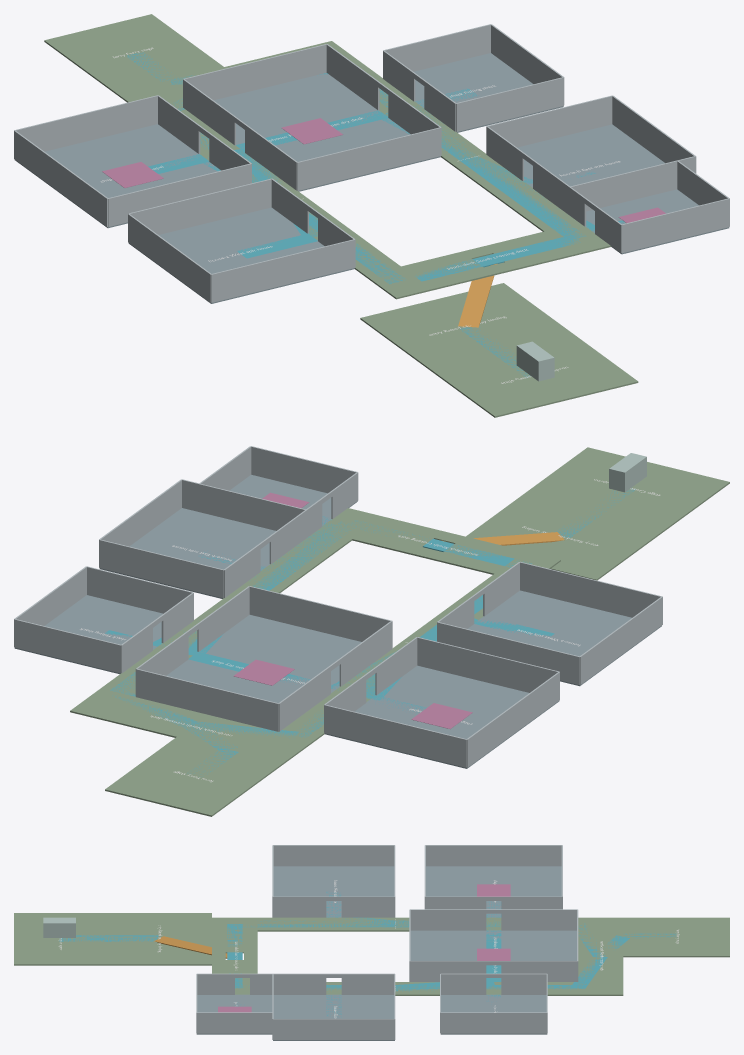
The model's file is rough-shell.glb.
The picture shows the model from 3 angles, top to bottom: view 1: azimuth 30°, elevation 25°; view 2: azimuth 150°, elevation 25°; view 3: azimuth 270°, elevation 25°; orthographic projection. The views are drawn at different scales.
Parts seen in each view (by area): view 1: Floor entry, Floor warehouse, Floor stage, Floor ferry, Floor chapel, Floor house-a, Floor service, Floor house-b, Wall house-a S, Wall warehouse S, Wall house-a N, Wall chapel N (+43 smaller); view 2: Floor entry, Floor warehouse, Floor ferry, Floor stage, Floor north-deck, Floor chapel, Floor house-a, Floor house-b, Floor service, Wall warehouse N, Wall chapel N, Wall warehouse S (+41 smaller); view 3: Floor entry, Floor warehouse, Floor ferry, Floor stage, Floor house-a, Floor chapel, Floor north-deck, Floor house-b, Wall chapel W, Floor main, Wall house-a W, Wall house-b E (+31 smaller).
Part boxes in pixels (left/top/right/bottom): Floor entry: left=360, top=283, right=575, bottom=371; Floor warehouse: left=214, top=73, right=440, bottom=191; Floor stage: left=432, top=336, right=638, bottom=417; Floor ferry: left=44, top=14, right=223, bottom=94; Floor chapel: left=14, top=124, right=219, bottom=228; Floor house-a: left=128, top=207, right=354, bottom=303; Floor service: left=357, top=63, right=611, bottom=255; Floor house-b: left=517, top=124, right=664, bottom=187; Wall house-a S: left=211, top=239, right=355, bottom=302; Wall warehouse S: left=297, top=127, right=441, bottom=190; Wall house-a N: left=128, top=178, right=271, bottom=234; Wall chapel N: left=14, top=95, right=157, bottom=151; Floor entry: left=466, top=492, right=668, bottom=580; Floor warehouse: left=166, top=615, right=361, bottom=702; Floor ferry: left=105, top=737, right=283, bottom=816; Floor stage: left=526, top=447, right=729, bottom=528; Floor north-deck: left=70, top=688, right=314, bottom=763; Floor chapel: left=324, top=665, right=559, bottom=768; Floor house-a: left=468, top=590, right=661, bottom=686; Floor house-b: left=99, top=508, right=275, bottom=598; Floor service: left=101, top=508, right=382, bottom=695; Wall warehouse N: left=136, top=669, right=278, bottom=731; Wall chapel N: left=324, top=705, right=466, bottom=767; Wall warehouse S: left=249, top=586, right=391, bottom=641; Floor entry: left=105, top=913, right=211, bottom=965; Floor warehouse: left=410, top=930, right=576, bottom=960; Floor ferry: left=623, top=917, right=729, bottom=957; Floor stage: left=14, top=913, right=105, bottom=965; Floor house-a: left=273, top=866, right=394, bottom=917; Floor chapel: left=426, top=866, right=561, bottom=917; Floor north-deck: left=577, top=917, right=623, bottom=995; Floor house-b: left=273, top=994, right=394, bottom=1040; Wall chapel W: left=425, top=845, right=561, bottom=866; Floor main: left=212, top=917, right=501, bottom=931; Wall house-a W: left=273, top=845, right=394, bottom=866; Wall house-b E: left=273, top=1019, right=394, bottom=1039.
Size of the model in its own units: 54.16 by 4.36 by 94.
